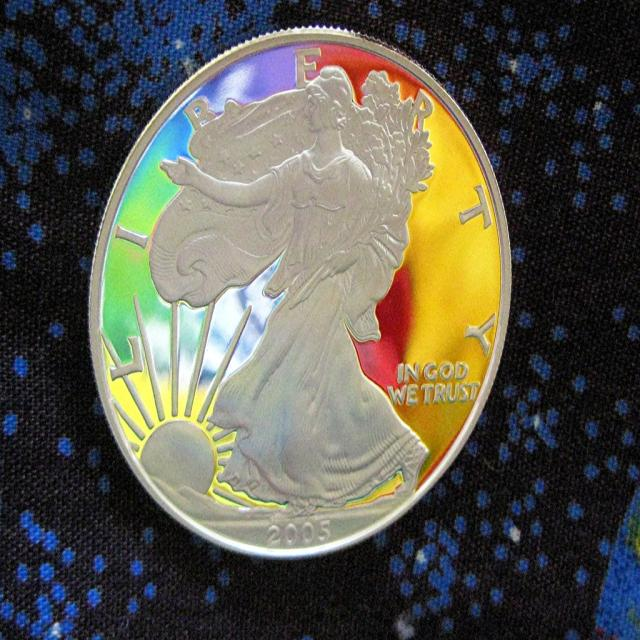Coin: (88, 25, 512, 559)
